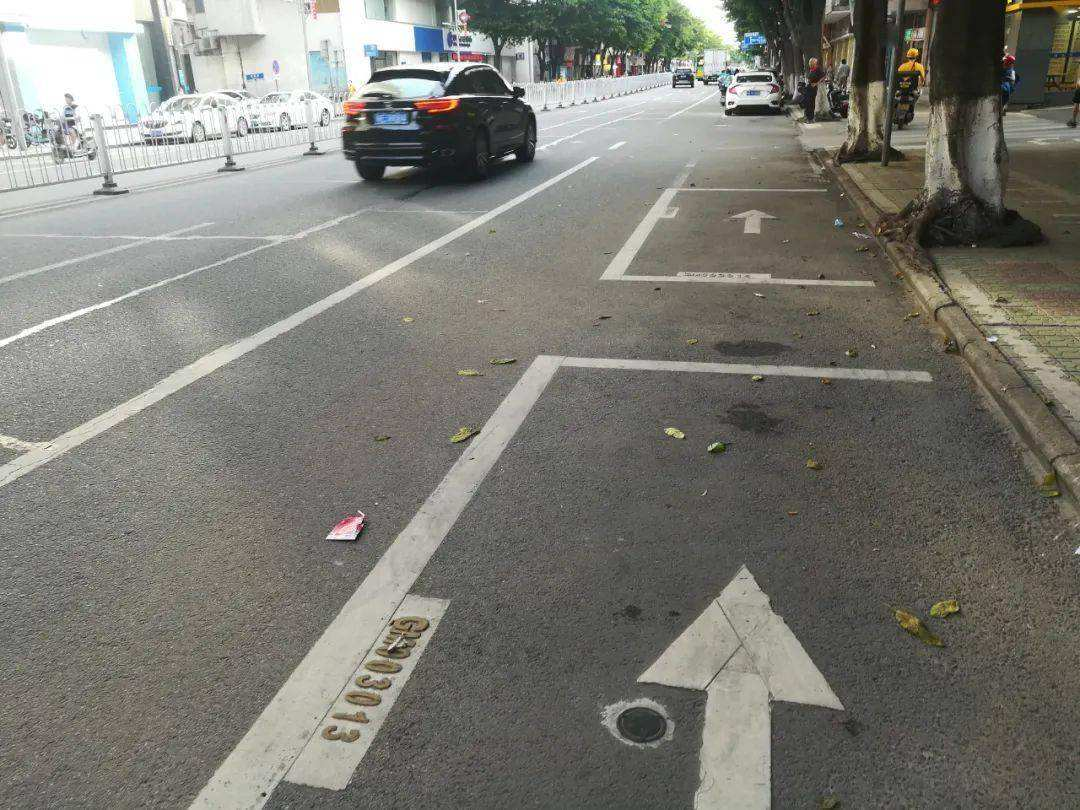slot_nocar: (259, 331, 1066, 810), (596, 166, 900, 311)
